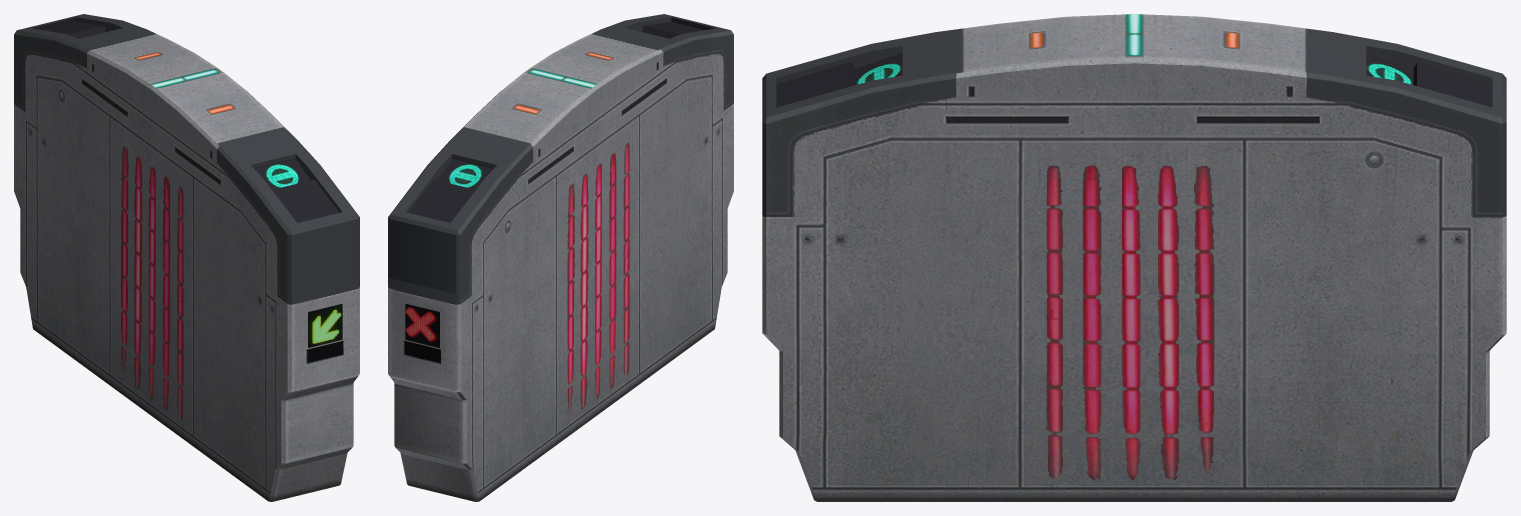
The model's file is Tourniquet01.FBX.
3 views of the same model, side by side, from view 1: azimuth 30°, elevation 25°; view 2: azimuth 150°, elevation 25°; view 3: azimuth 270°, elevation 25° (orthographic). The views are drawn at different scales.
Parts seen in each view (by area): view 1: Tourniquet01; view 2: Tourniquet01; view 3: Tourniquet01.
Part boxes in pixels (x1,y1,x2,y2): Tourniquet01: (14,14,359,501); Tourniquet01: (388,14,733,501); Tourniquet01: (762,14,1506,501).
Bounding box in the file's own units: 293 × 1272 × 1940.
